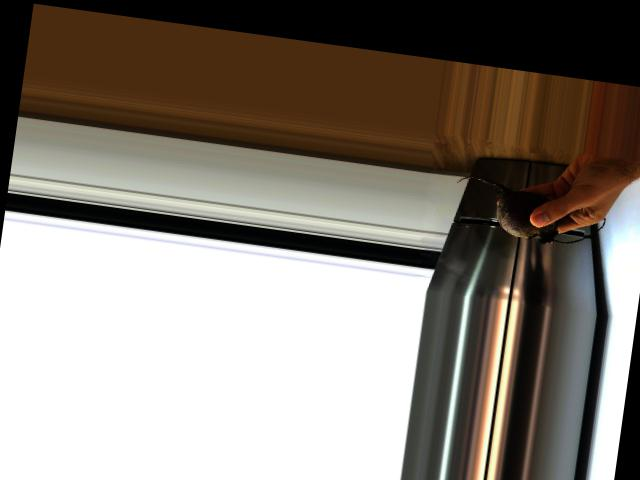beet: (449, 174, 608, 251)
